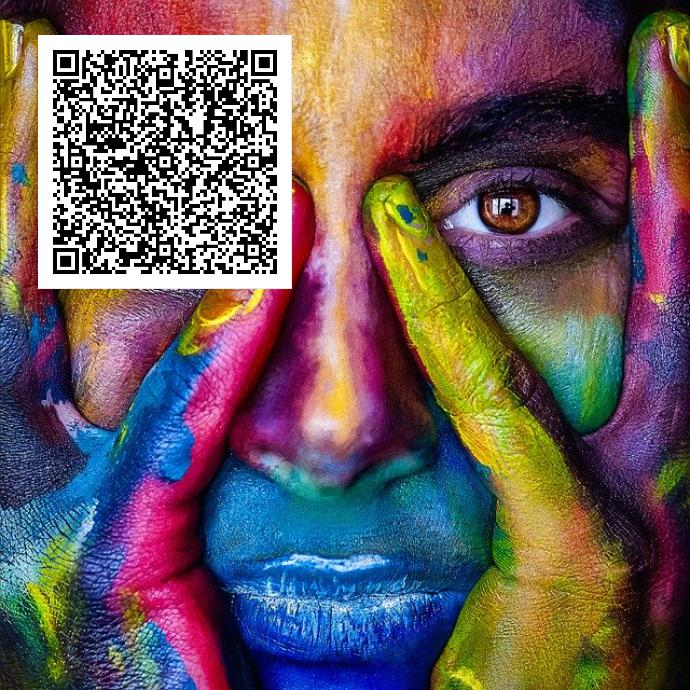qr_code: (38, 35, 291, 288)
